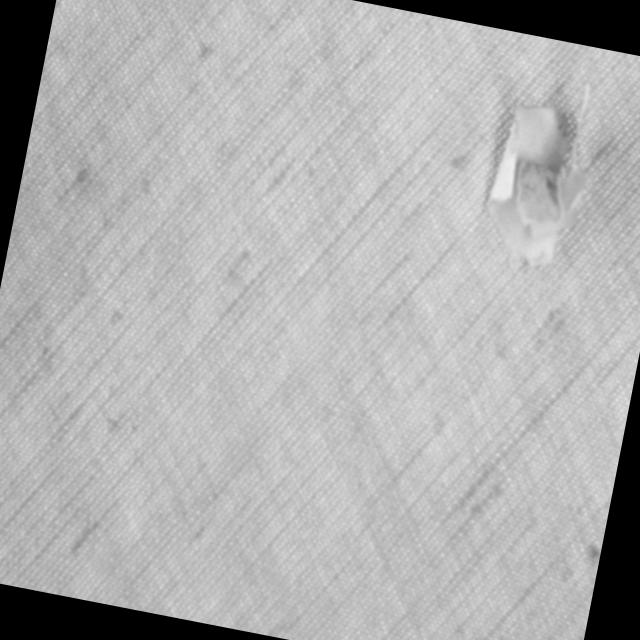objects: (469, 62, 614, 278)
